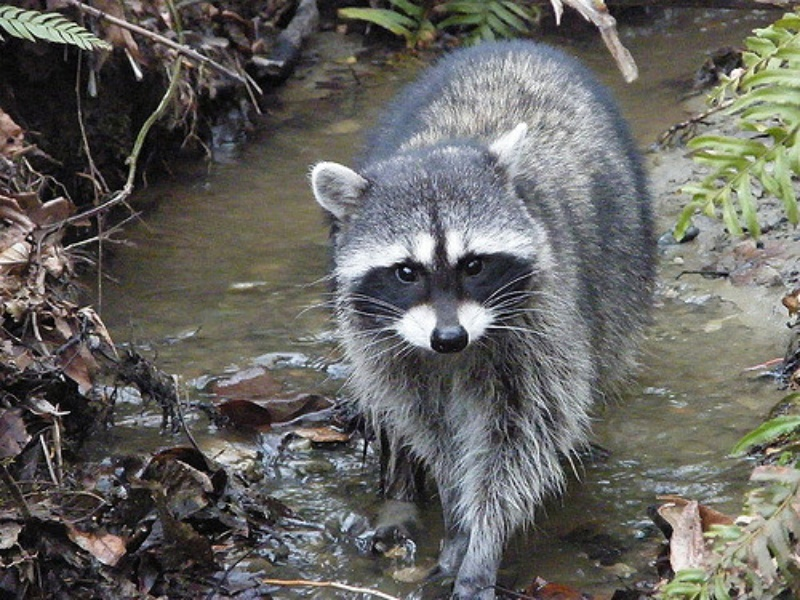raccoon: (310, 40, 657, 598)
